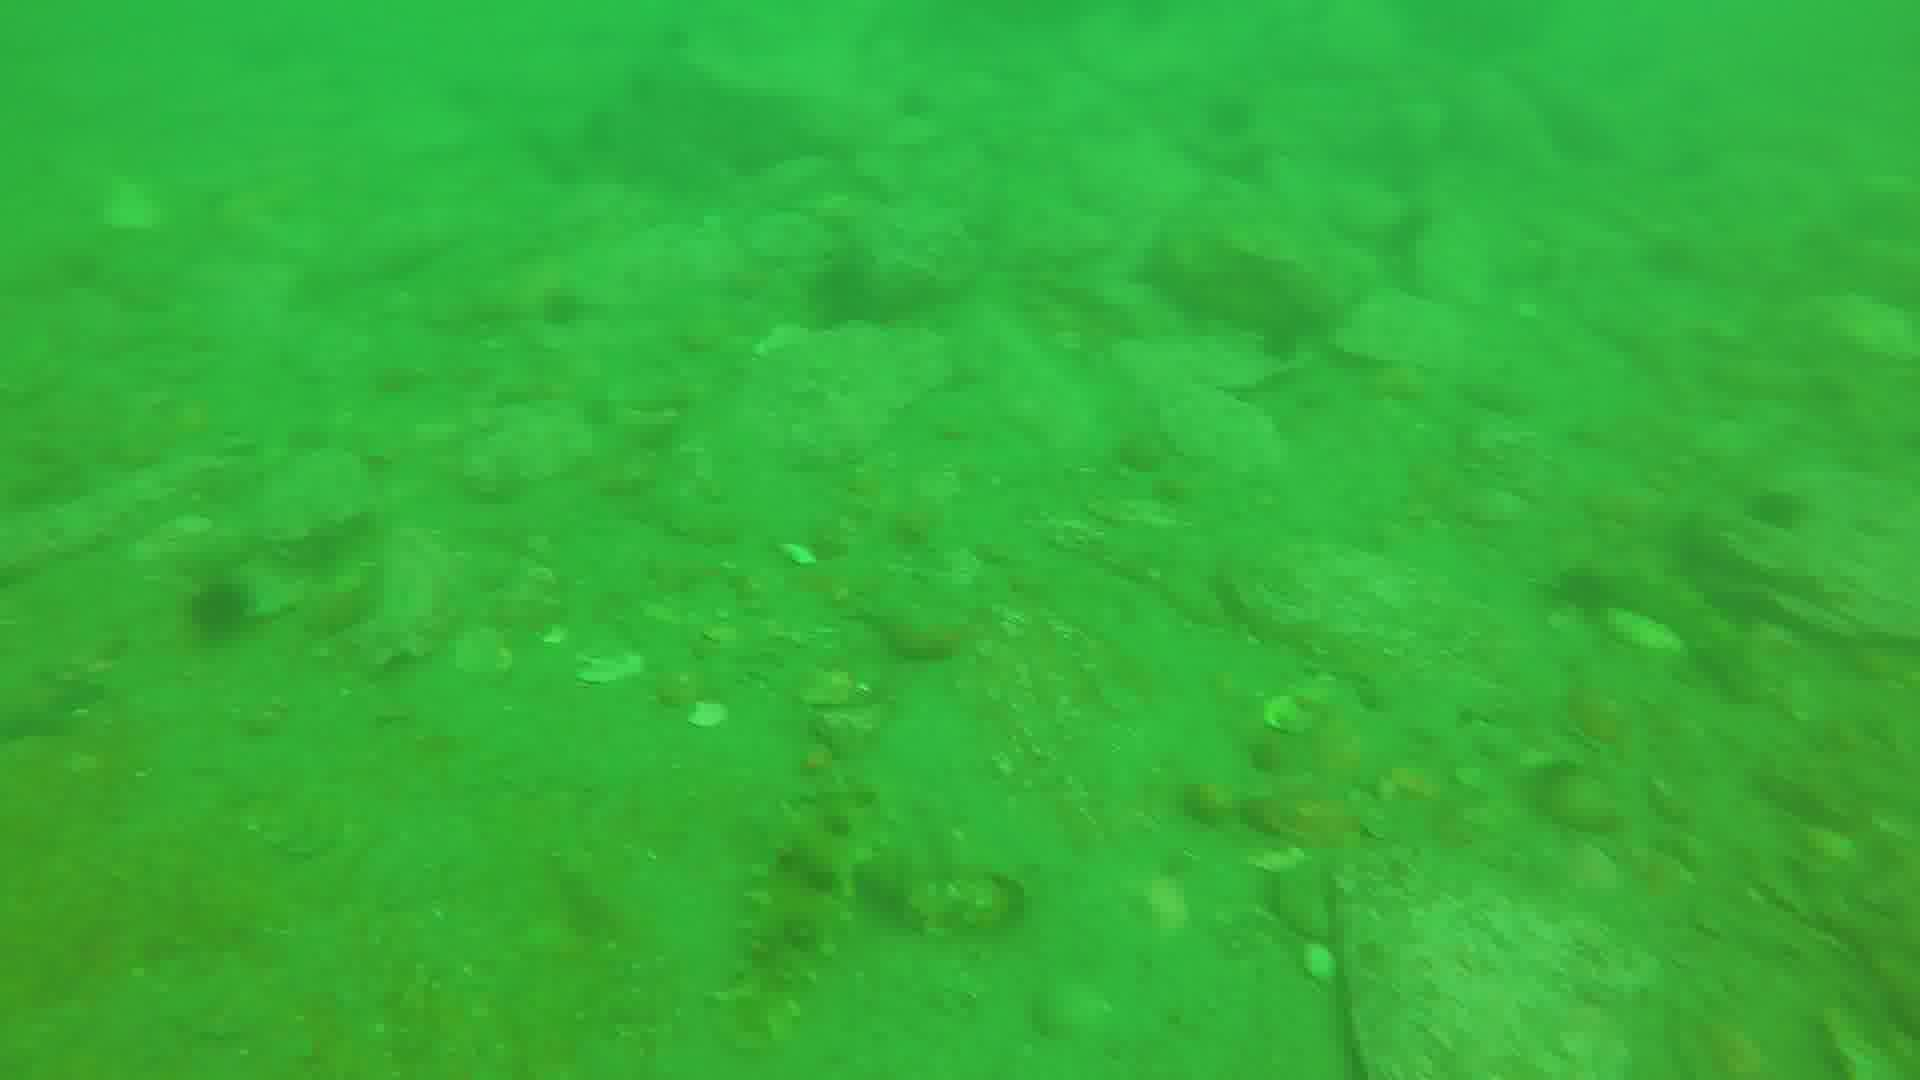echinus: (189, 568, 258, 644)
holothurian: (727, 771, 891, 1046), (1552, 556, 1787, 705)
